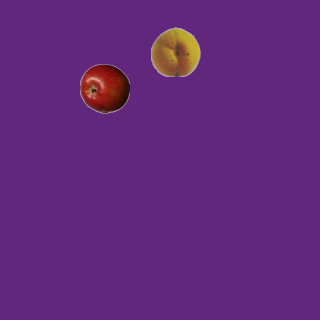Apple Braeburn: (79, 63, 129, 113)
Peach 2: (150, 26, 200, 76)
